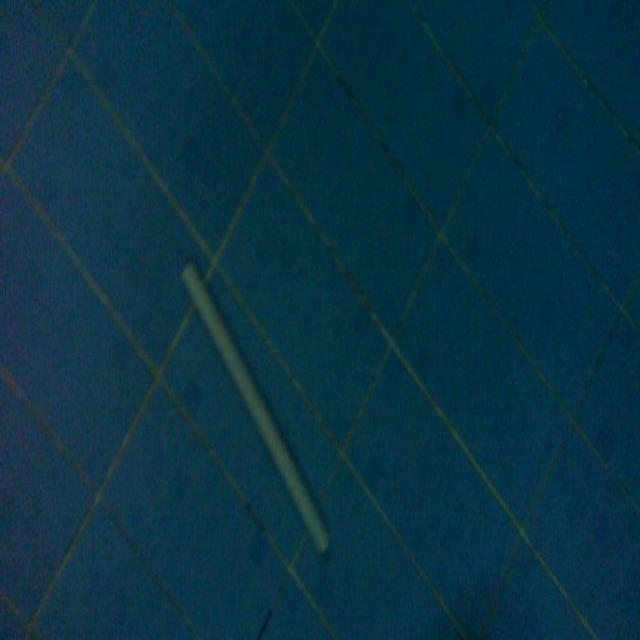Cube: (178, 254, 332, 558)
